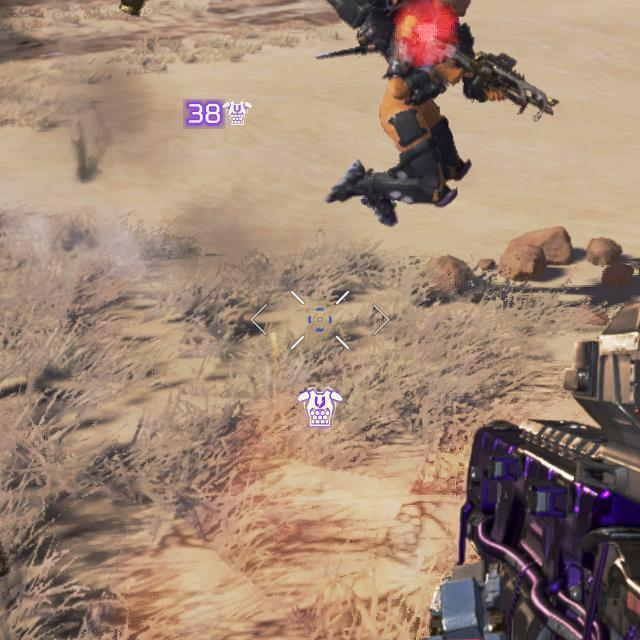avatar: (323, 0, 508, 227)
object: (390, 1, 458, 66)
